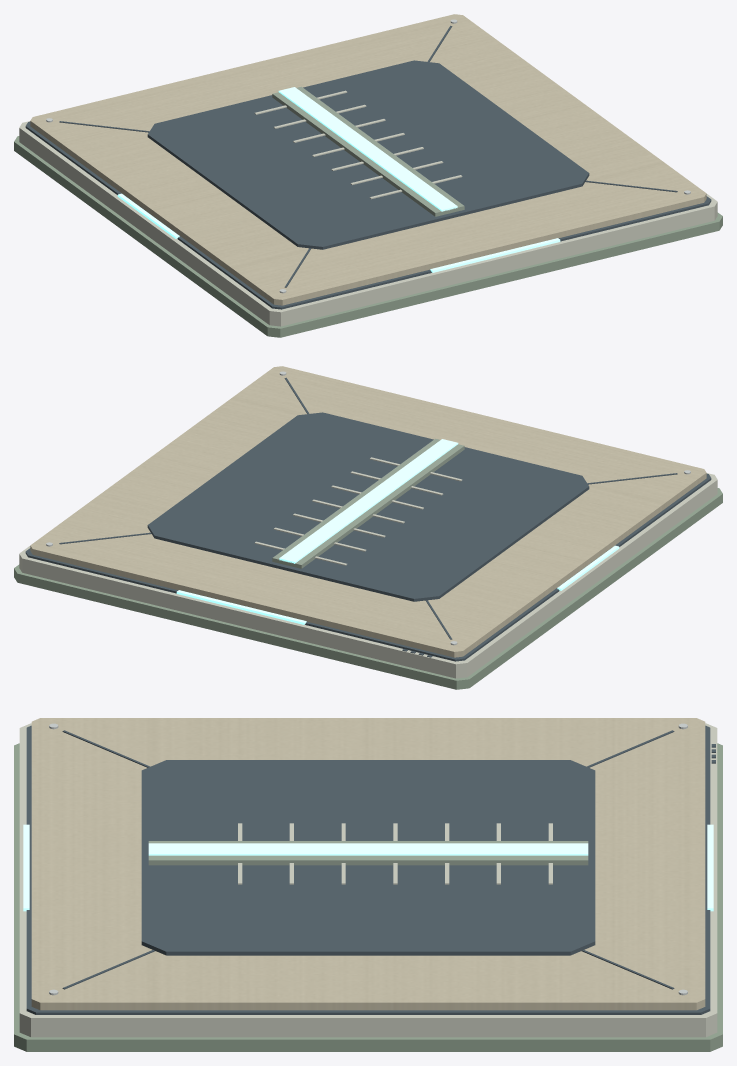
Rendered from m01-metal-service-conduit.glb.
3 renders of one model, top to bottom at view 1: azimuth 30°, elevation 25°; view 2: azimuth 150°, elevation 25°; view 3: azimuth 270°, elevation 25°, orthographic. The views are drawn at different scales.
Visible parts, largest first — view 1: service-conduit/003, service-conduit/020, service-conduit/001, service-conduit/000, service-conduit/022, service-conduit/021, service-conduit/002, service-conduit/014; view 2: service-conduit/003, service-conduit/020, service-conduit/001, service-conduit/000, service-conduit/022, service-conduit/021, service-conduit/002, service-conduit/013; view 3: service-conduit/003, service-conduit/020, service-conduit/001, service-conduit/000, service-conduit/002, service-conduit/021, service-conduit/022, service-conduit/013, service-conduit/014.
Part boxes in pixels (x1=…): service-conduit/003: x1=30, y1=14, x2=706, y2=305; service-conduit/020: x1=147, y1=60, x2=589, y2=249; service-conduit/001: x1=19, y1=121, x2=717, y2=326; service-conduit/000: x1=14, y1=136, x2=722, y2=337; service-conduit/022: x1=278, y1=87, x2=457, y2=211; service-conduit/021: x1=272, y1=86, x2=464, y2=216; service-conduit/002: x1=25, y1=121, x2=711, y2=309; service-conduit/014: x1=430, y1=238, x2=560, y2=272; service-conduit/003: x1=30, y1=366, x2=706, y2=657; service-conduit/020: x1=147, y1=412, x2=589, y2=601; service-conduit/001: x1=19, y1=473, x2=717, y2=678; service-conduit/000: x1=14, y1=488, x2=722, y2=689; service-conduit/022: x1=279, y1=439, x2=458, y2=563; service-conduit/021: x1=272, y1=438, x2=464, y2=568; service-conduit/002: x1=25, y1=473, x2=711, y2=661; service-conduit/013: x1=176, y1=590, x2=306, y2=624; service-conduit/003: x1=31, y1=718, x2=705, y2=1010; service-conduit/020: x1=141, y1=760, x2=595, y2=955; service-conduit/001: x1=19, y1=723, x2=717, y2=1037; service-conduit/000: x1=14, y1=743, x2=722, y2=1051; service-conduit/002: x1=26, y1=725, x2=710, y2=1014; service-conduit/021: x1=148, y1=841, x2=588, y2=865; service-conduit/022: x1=148, y1=843, x2=588, y2=855; service-conduit/013: x1=707, y1=824, x2=713, y2=911; service-conduit/014: x1=23, y1=824, x2=29, y2=911.
Bounding box in the file's own units: 1 × 0.083 × 1.
Materials: 7 (1 with a texture image).
